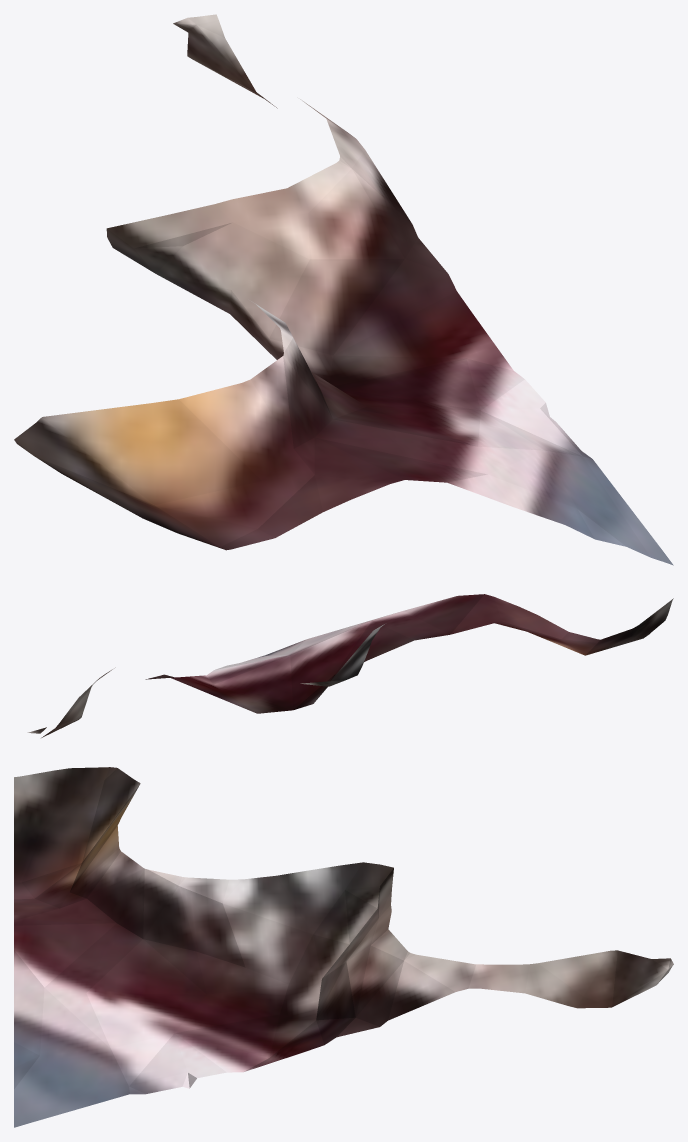
3 renders of one model, top to bottom at view 1: azimuth 30°, elevation 25°; view 2: azimuth 150°, elevation 25°; view 3: azimuth 270°, elevation 25°, orthographic. The views are drawn at different scales.
Bounding box in the file's own units: 0.3001 × 0.1052 × 0.4064.
1 material, 1 textured.
